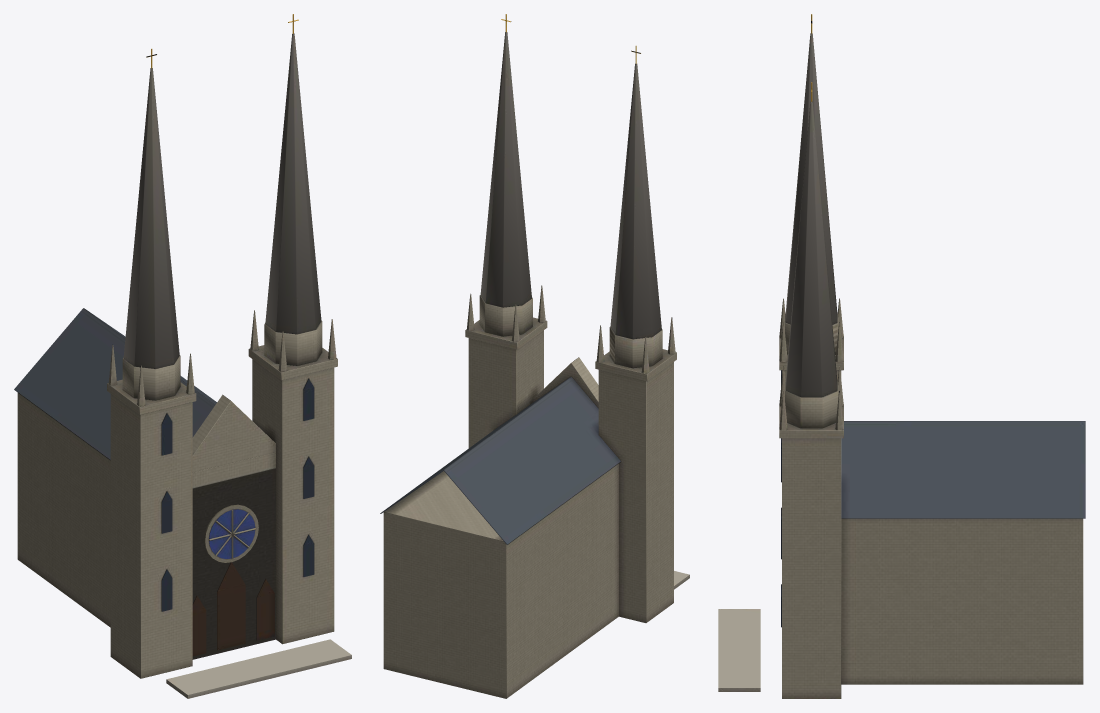
File: gesu_church.glb
3 views of the same model, side by side, from view 1: azimuth 30°, elevation 25°; view 2: azimuth 150°, elevation 25°; view 3: azimuth 270°, elevation 25° (orthographic). The views are drawn at different scales.
Visible parts, largest first — view 1: gesu_church; view 2: gesu_church; view 3: gesu_church.
Boxes of the visible parts, x1=… form: gesu_church: x1=14, y1=14, x2=351, y2=698; gesu_church: x1=380, y1=14, x2=689, y2=698; gesu_church: x1=718, y1=14, x2=1085, y2=698.
Size of the model in its own units: 26.6 by 78.5 by 43.3.
Materials: 1 (1 with a texture image).
